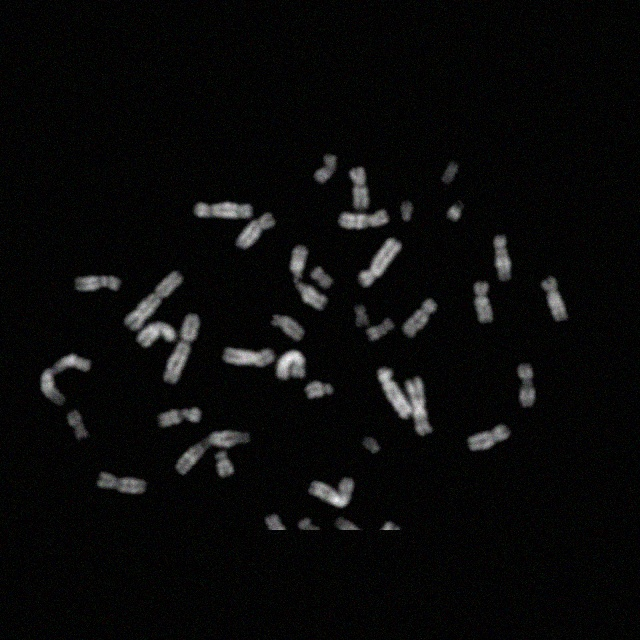chromosome: (124, 270, 182, 330), (174, 430, 246, 472), (162, 315, 198, 385), (42, 356, 88, 408), (290, 245, 326, 309), (358, 238, 402, 286), (374, 368, 412, 418), (406, 378, 432, 437), (309, 477, 357, 508), (221, 344, 273, 370), (238, 213, 274, 249), (540, 278, 570, 320), (468, 424, 510, 454), (268, 312, 306, 344), (193, 200, 252, 220), (157, 404, 201, 430), (404, 301, 436, 335), (98, 473, 147, 495), (276, 350, 306, 384), (135, 323, 177, 347), (338, 210, 388, 230), (493, 233, 512, 280), (349, 168, 371, 208), (473, 280, 492, 322), (75, 273, 119, 291), (518, 364, 536, 408), (314, 152, 338, 182), (67, 410, 88, 440), (440, 160, 462, 188), (304, 381, 332, 402), (311, 264, 335, 288), (368, 320, 394, 340), (216, 450, 234, 476), (398, 204, 416, 226), (446, 202, 462, 224), (354, 306, 366, 330)
